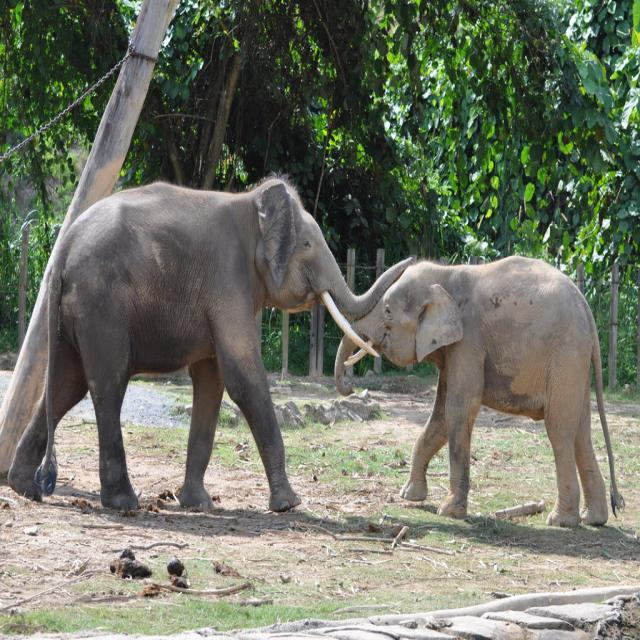Elephant: (5, 172, 418, 514), (334, 253, 624, 527)
